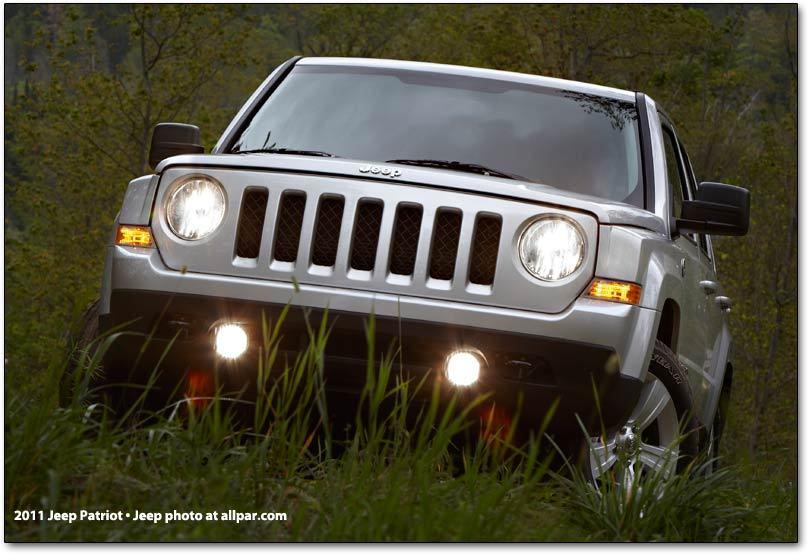jeep: (340, 154, 410, 189)
